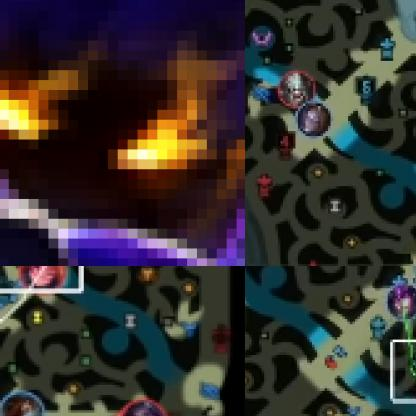Fiddlesticks: (0, 390, 46, 415)
Kaiundefinedsa: (122, 398, 167, 415)
Orianna: (296, 101, 332, 136)
Syndra: (387, 283, 415, 322)
Tryndamere: (278, 70, 316, 109)
Veigar: (0, 0, 244, 265)
Zoe: (23, 266, 71, 293)
